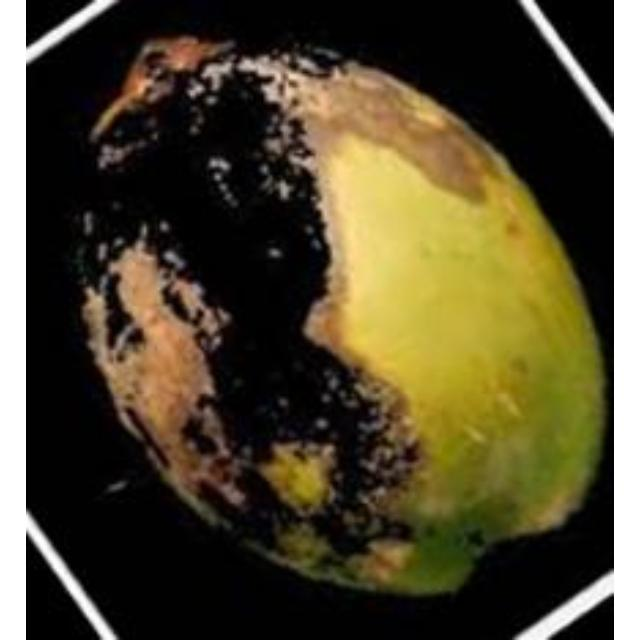damaged: (81, 38, 606, 604)
